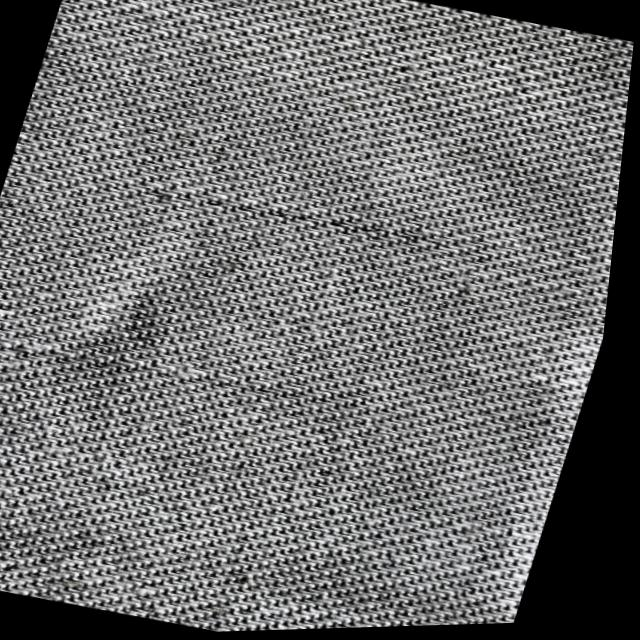Hole: (367, 230, 376, 235), (334, 224, 343, 228), (302, 218, 309, 222), (244, 209, 250, 212)
